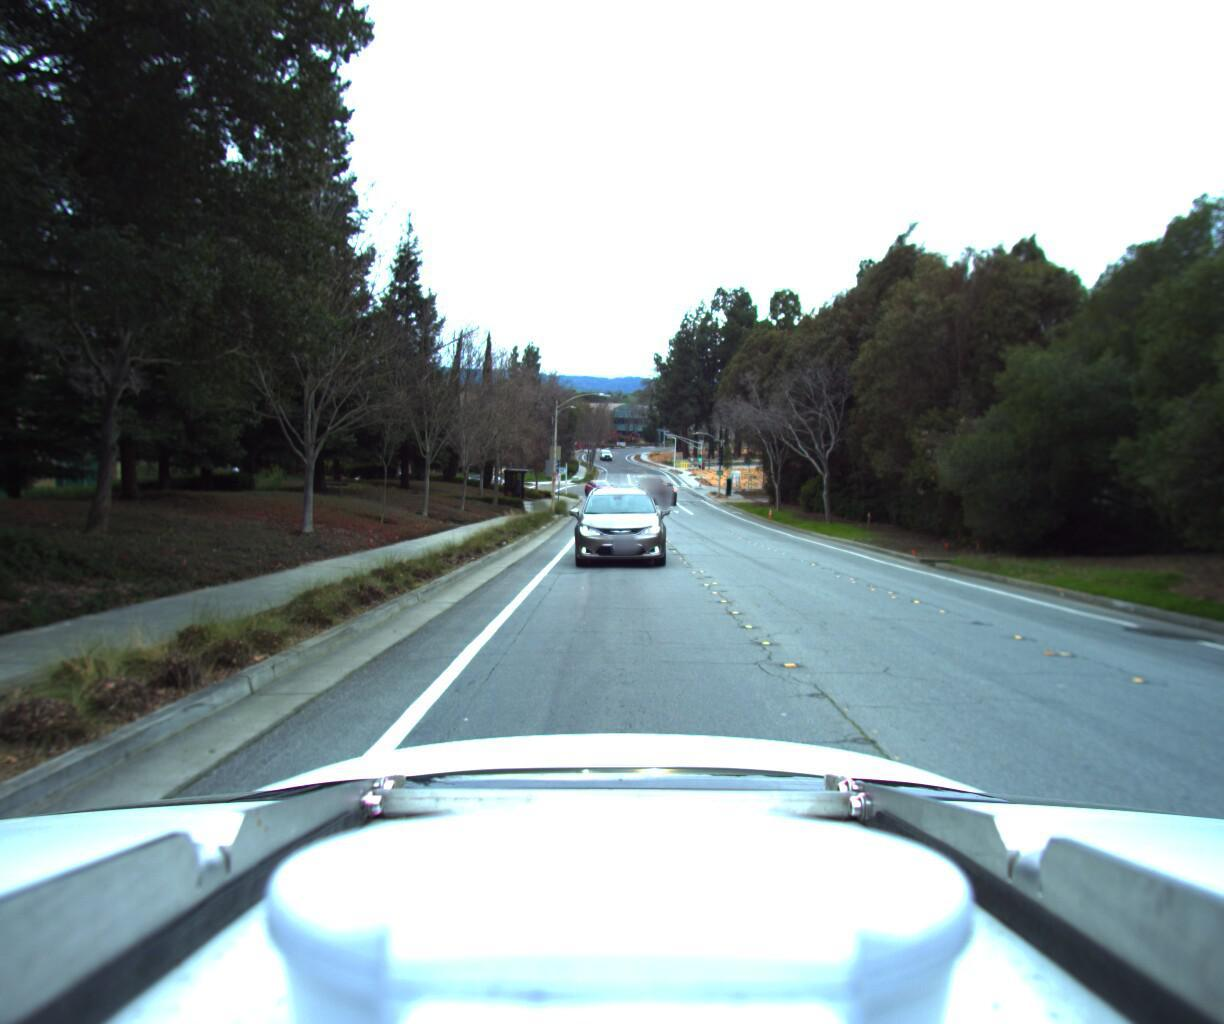car: (569, 471, 670, 578), (647, 472, 675, 500), (578, 469, 613, 489)
